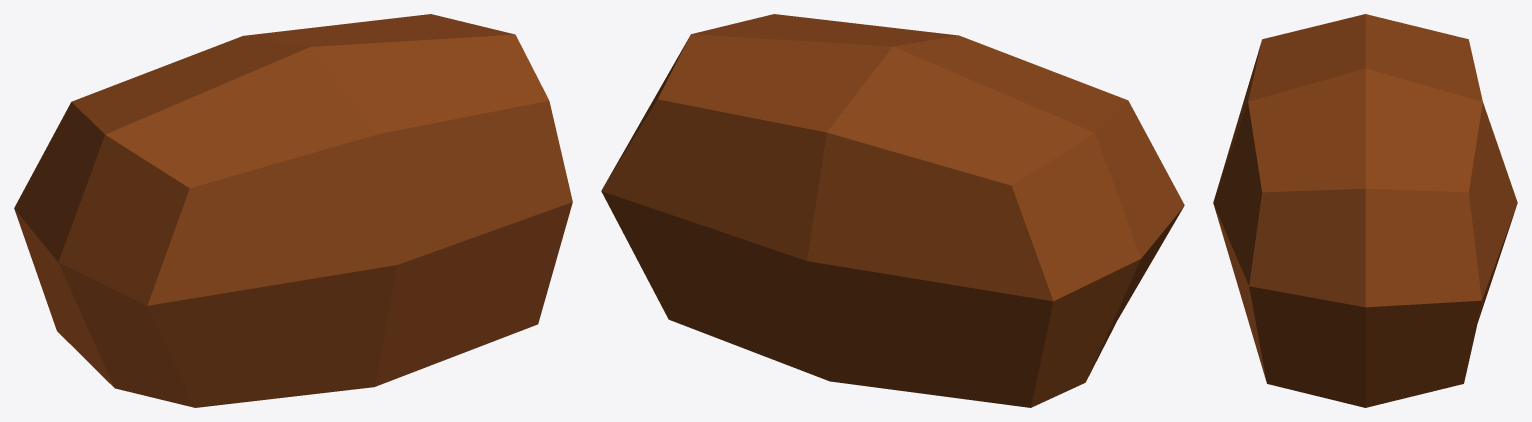
The model's file is kiwi.fbx.
3 views of the same model, side by side, from view 1: azimuth 30°, elevation 25°; view 2: azimuth 150°, elevation 25°; view 3: azimuth 270°, elevation 25° (orthographic). The views are drawn at different scales.
Parts seen in each view (by area): view 1: kiwi; view 2: kiwi; view 3: kiwi.
Boxes of the visible parts, x1=… form: kiwi: x1=14, y1=14, x2=572, y2=407; kiwi: x1=601, y1=14, x2=1184, y2=407; kiwi: x1=1213, y1=14, x2=1517, y2=407.
Size of the model in its own units: 8.05 by 4.76 by 4.89.
1 material, 1 textured.
